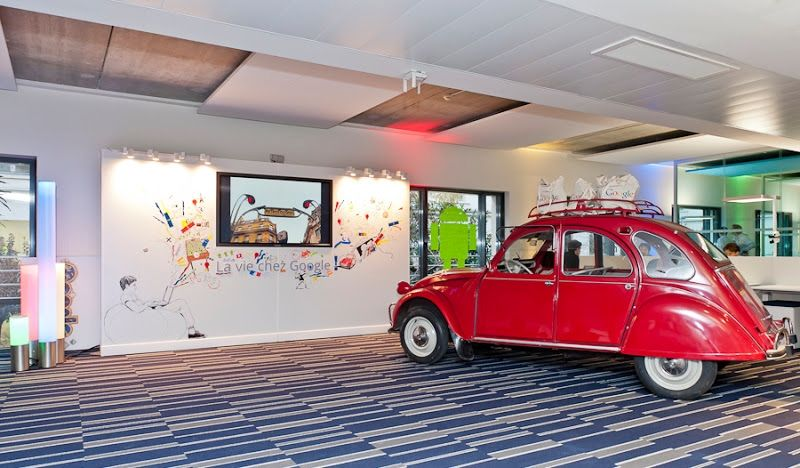google: (290, 259, 335, 271), (601, 185, 635, 198)
